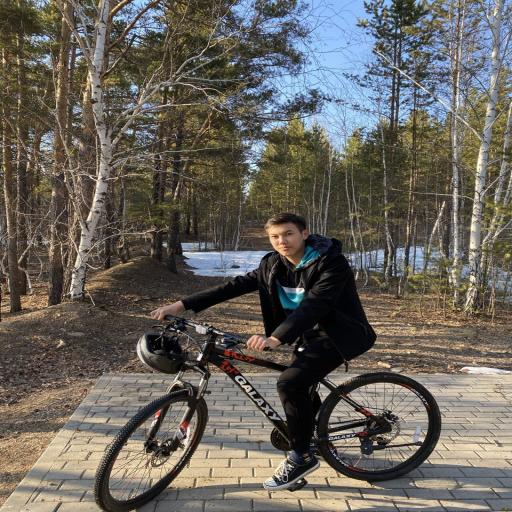bag: (94, 316, 289, 511)
shelf: (151, 213, 375, 489), (140, 375, 511, 511)
